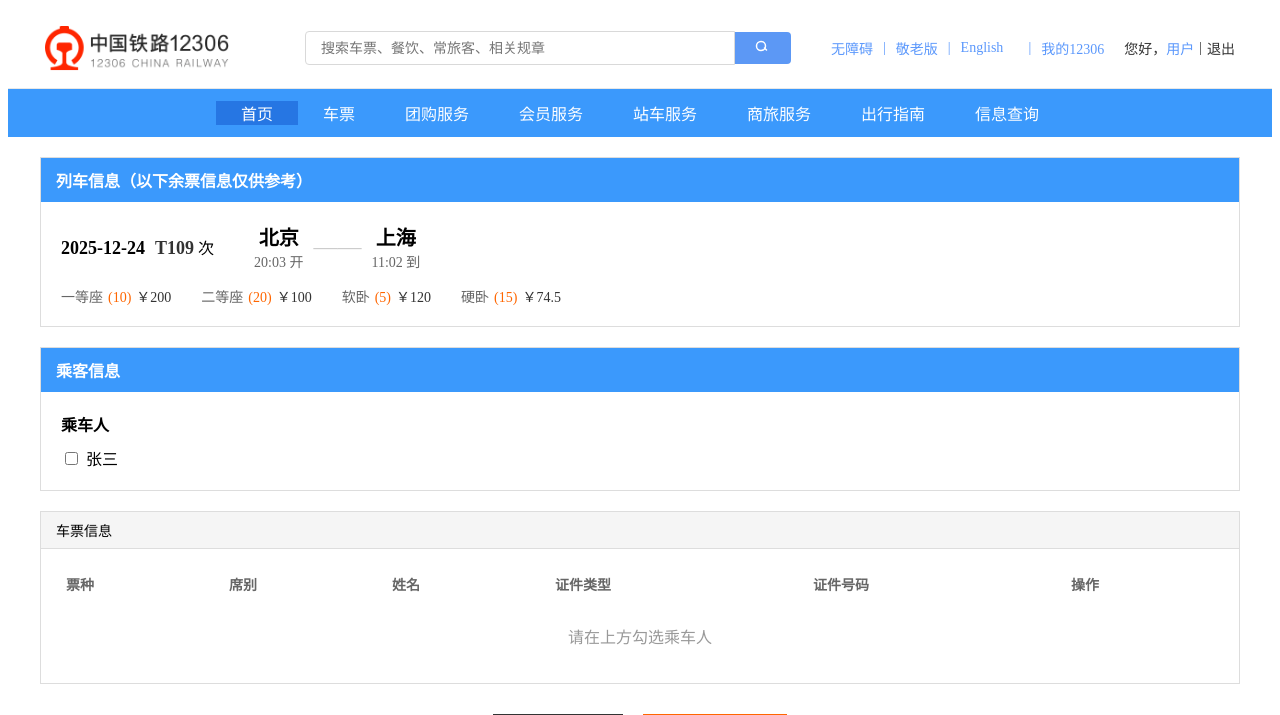
Test: OrderFillPage › Given 确认订单弹窗已弹出 When 点击返回修改 Then 不应创建未完成订单
The width and height of the screenshot is (1280, 715).
Click the checkbox labelled "张三": (72, 458) x1=65 y1=452 x2=78 y2=464
(page scrolled)
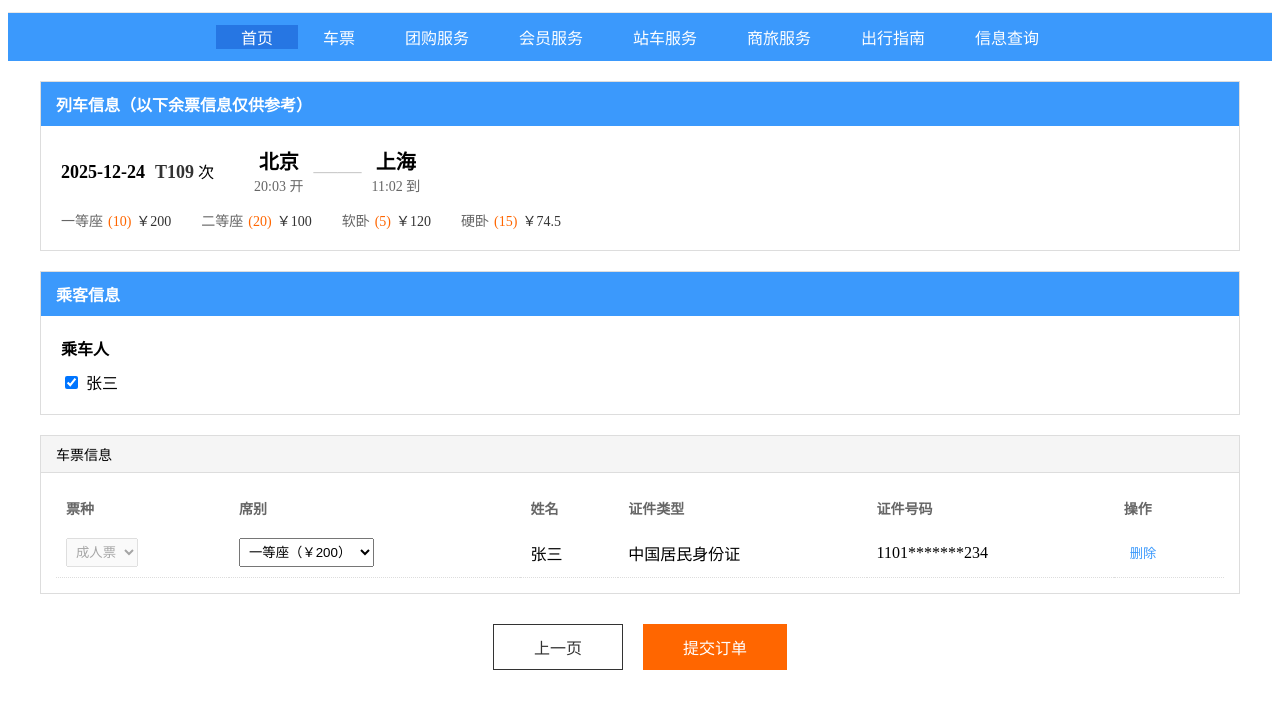
Click the button "提交订单": (715, 647) x1=643 y1=624 x2=787 y2=670
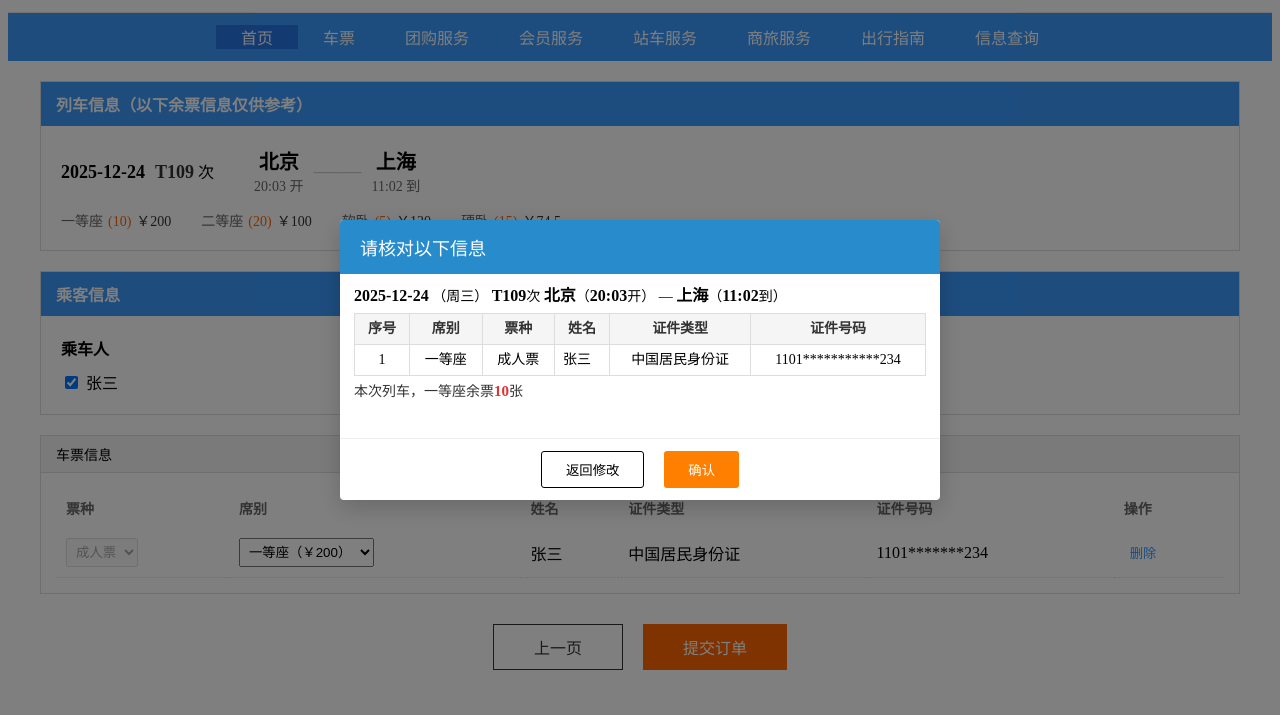
Check: the text "请核对以下信息" is shown, box x1=340 y1=220 x2=940 y2=274
Click the button "返回修改": (593, 470) x1=541 y1=451 x2=644 y2=488
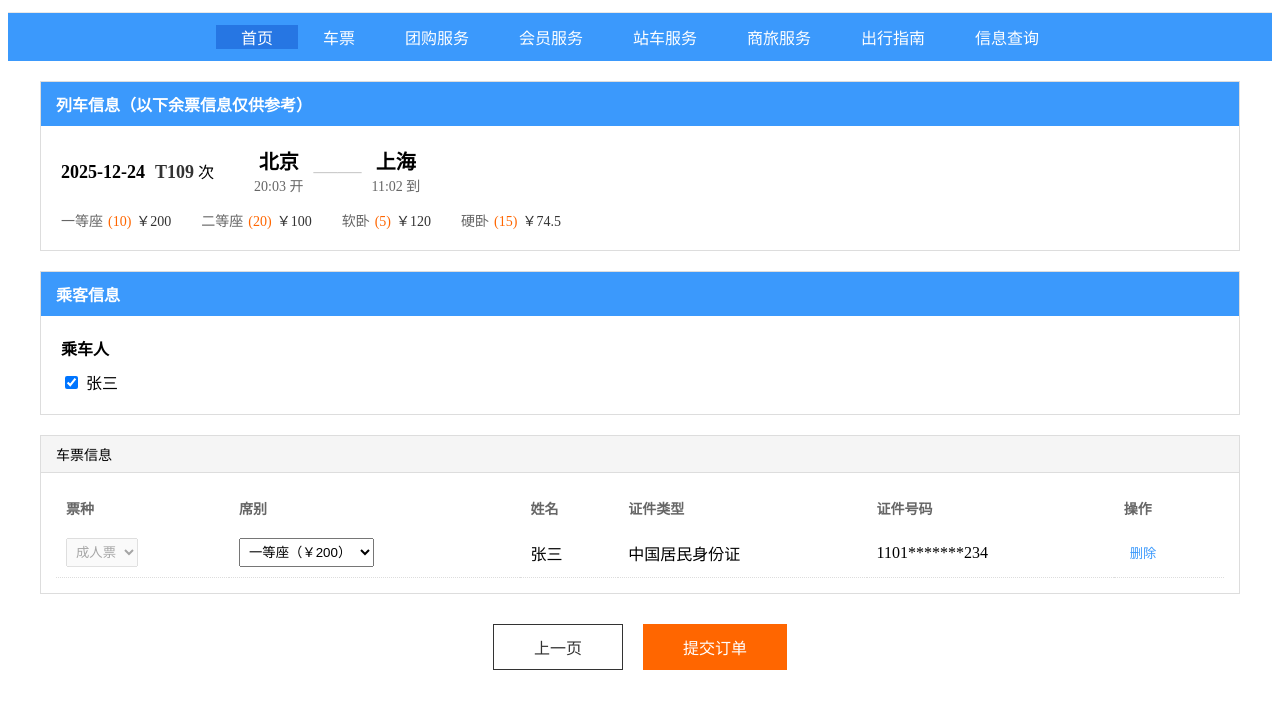
Check: the text "请核对以下信息" is gone
